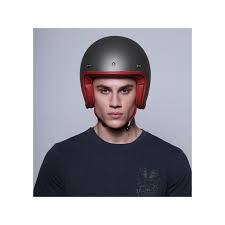helmet: (79, 35, 151, 129)
